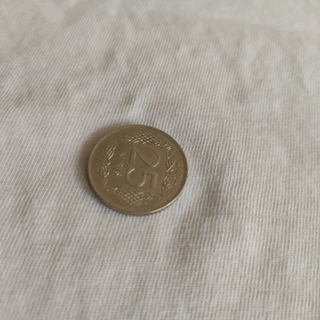25KURUS: (84, 122, 189, 217)
